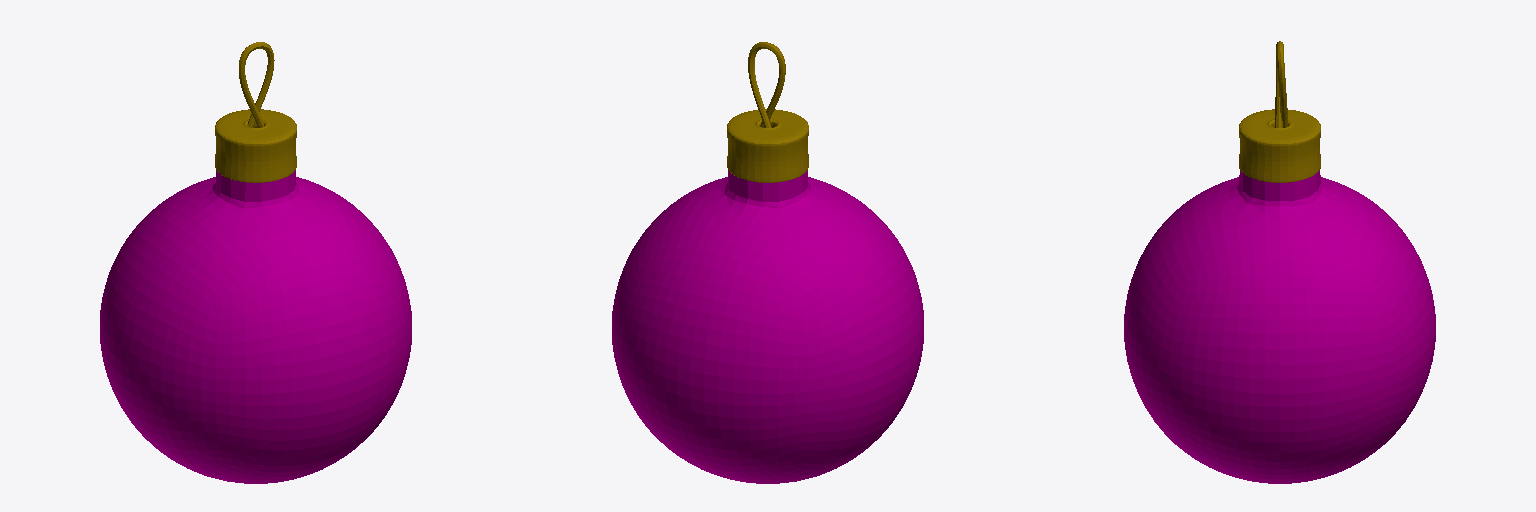
3 views of the same model, side by side, from view 1: azimuth 30°, elevation 25°; view 2: azimuth 150°, elevation 25°; view 3: azimuth 270°, elevation 25° (orthographic).
Visible parts, largest first — view 1: ball, christmas_decoration_a_top, pin; view 2: ball, christmas_decoration_a_top, pin; view 3: ball, christmas_decoration_a_top, pin.
Part boxes in pixels (bbox=[...]): ball: bbox=[100, 170, 411, 483]; christmas_decoration_a_top: bbox=[215, 109, 296, 182]; pin: bbox=[239, 42, 274, 127]; ball: bbox=[612, 170, 923, 483]; christmas_decoration_a_top: bbox=[727, 109, 808, 182]; pin: bbox=[748, 42, 785, 127]; ball: bbox=[1124, 170, 1435, 483]; christmas_decoration_a_top: bbox=[1239, 109, 1320, 182]; pin: bbox=[1275, 41, 1287, 127].
Bounding box in the file's own units: 5.61 × 8.46 × 5.61.
Materials: 1 (1 with a texture image).